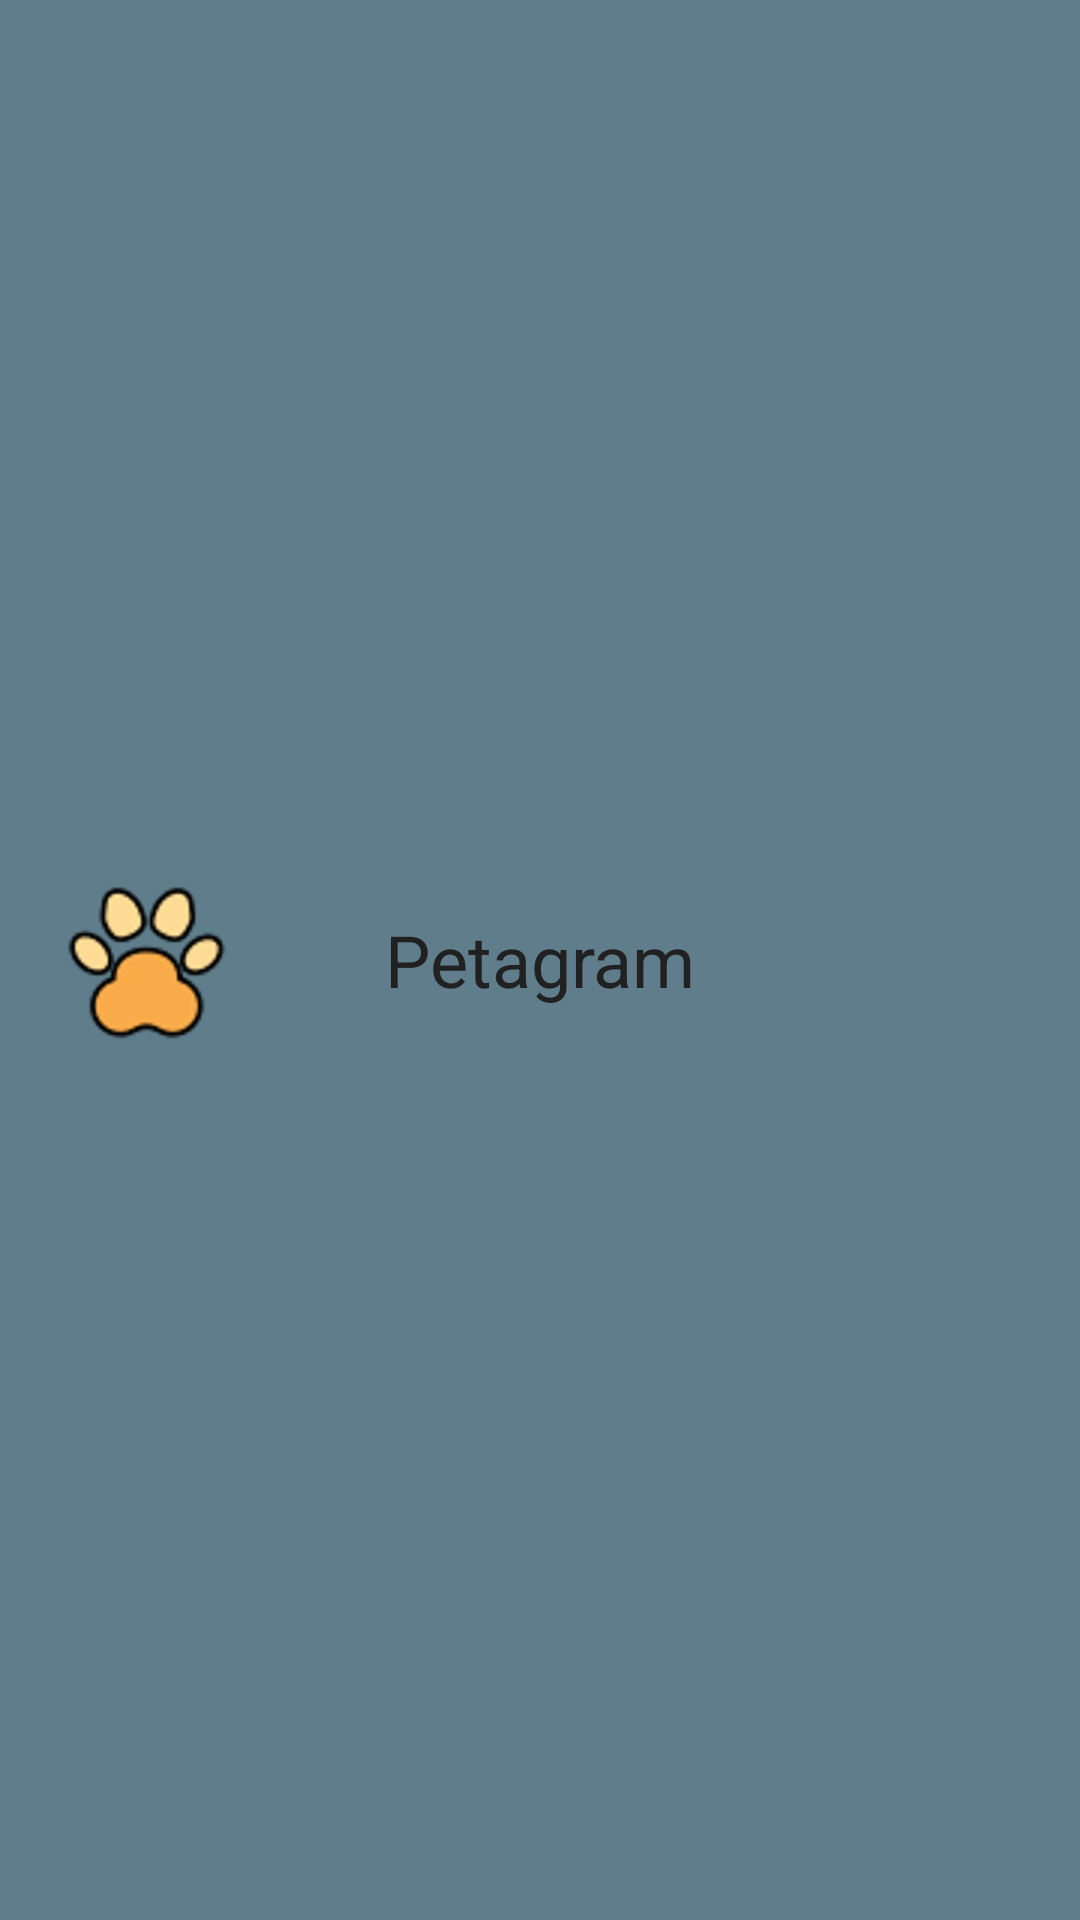

Named icons in this screenshot (1080px×1920px) and their bounding boxes, (x1, y1, x2, y2):
pet: (68, 887, 225, 1038)
